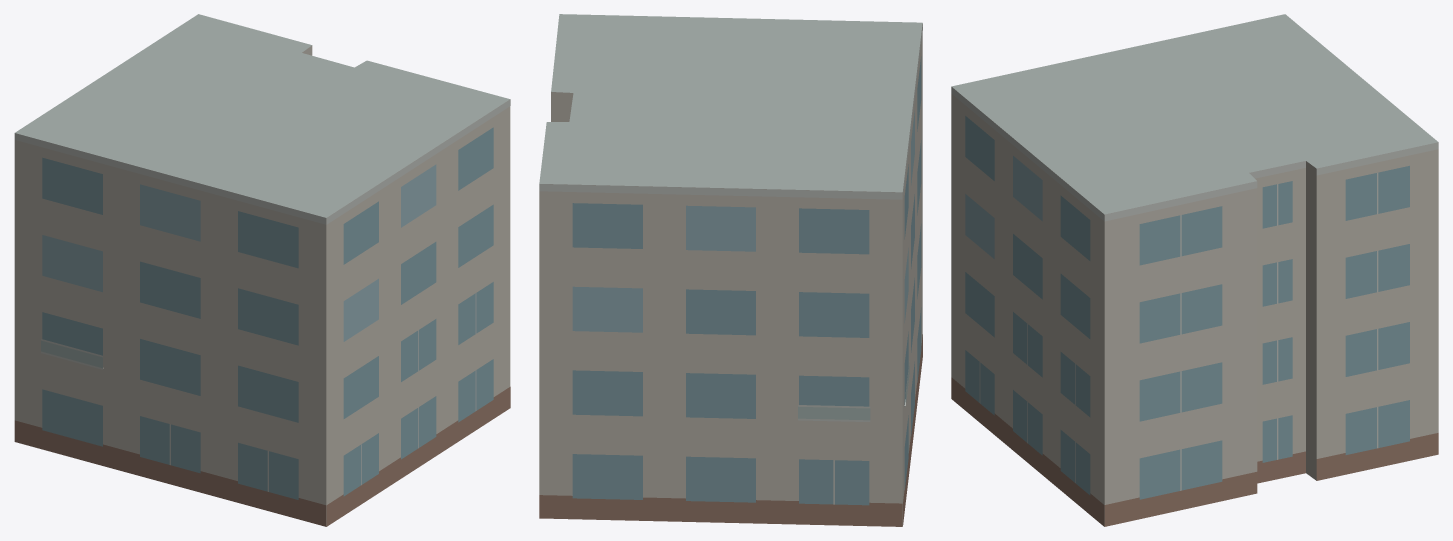
The model's file is survey-upis-32863894.glb.
3 views of the same model, side by side, from view 1: azimuth 30°, elevation 25°; view 2: azimuth 150°, elevation 25°; view 3: azimuth 270°, elevation 25° (orthographic). The views are drawn at different scales.
Parts seen in each view (by area): view 1: survey-upis-32863894.tmp; view 2: survey-upis-32863894.tmp; view 3: survey-upis-32863894.tmp.
Part boxes in pixels (left/top/right/bottom): survey-upis-32863894.tmp: left=14, top=14, right=510, bottom=526; survey-upis-32863894.tmp: left=539, top=14, right=922, bottom=526; survey-upis-32863894.tmp: left=951, top=14, right=1438, bottom=526.
Bounding box in the file's own units: 15.02 × 10.9 × 15.42.
